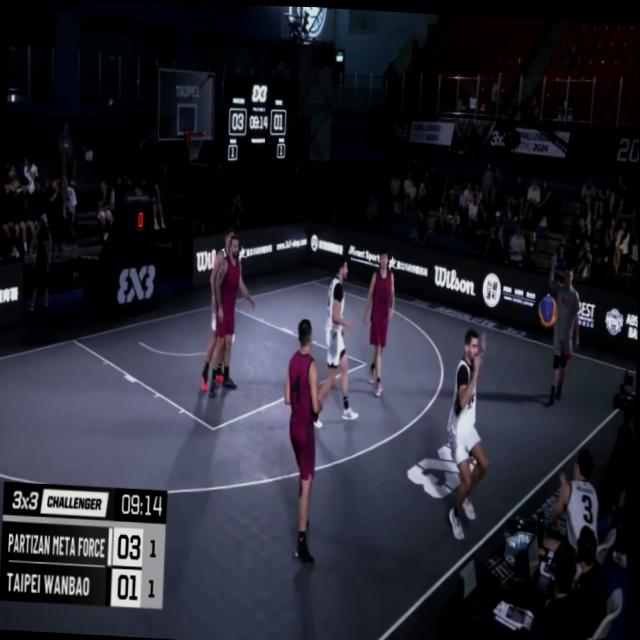ball: (534, 290, 558, 328)
hoop: (181, 126, 207, 165)
player: (278, 314, 328, 559), (443, 321, 490, 534), (205, 228, 260, 400), (320, 254, 366, 423), (200, 220, 232, 393), (360, 247, 396, 398)
